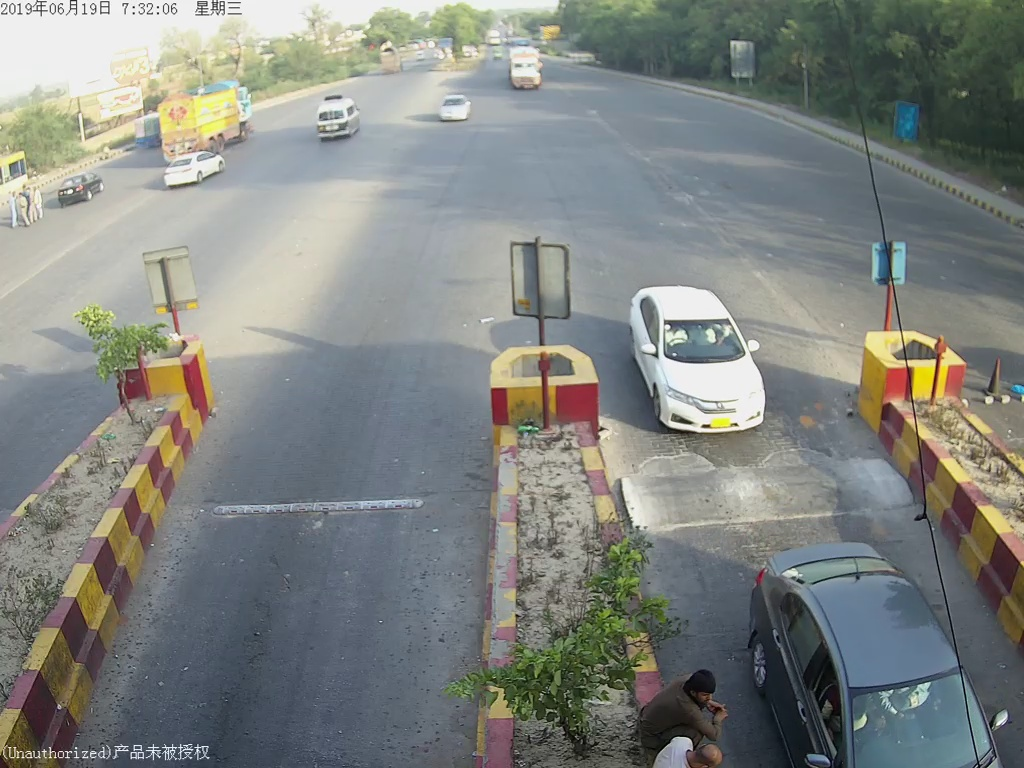Cat-1: (617, 264, 778, 446), (427, 90, 480, 134)
